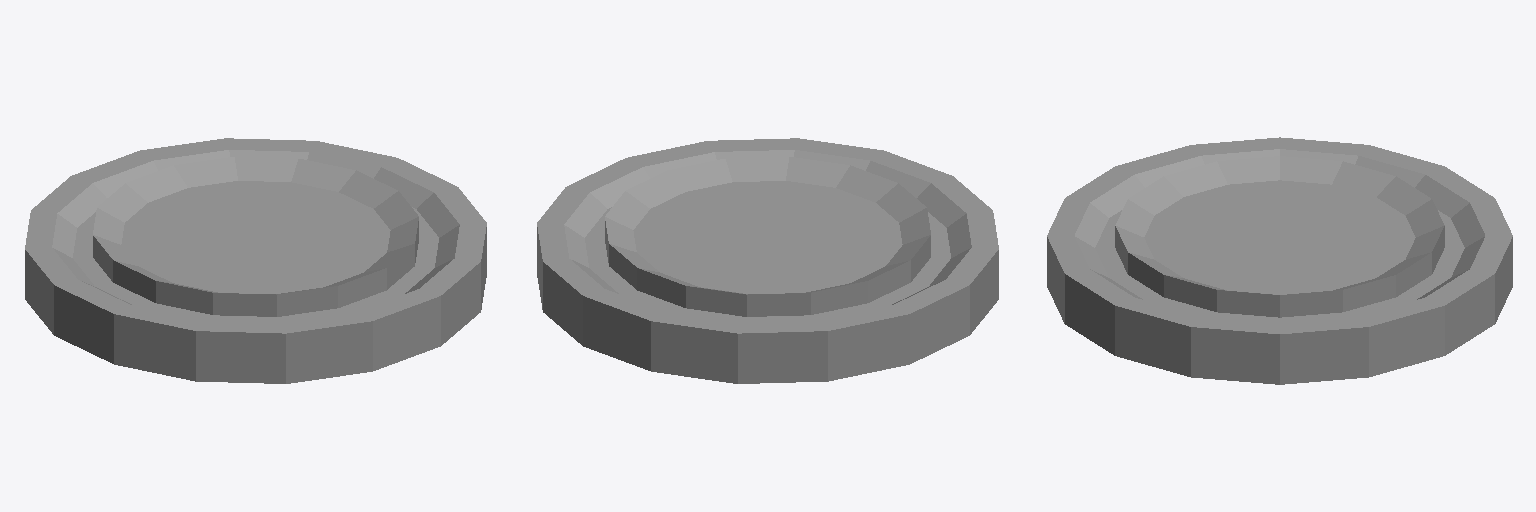
Rendered from Finnish_platform.obj.
3 renders of one model, left to right at view 1: azimuth 30°, elevation 25°; view 2: azimuth 150°, elevation 25°; view 3: azimuth 270°, elevation 25°, orthographic.
Visible parts, largest first — view 1: Cylinder.002; view 2: Cylinder.002; view 3: Cylinder.002.
Boxes of the visible parts, box(x1,y1,x2,y2) form: Cylinder.002: box(25, 138, 486, 383); Cylinder.002: box(537, 138, 998, 383); Cylinder.002: box(1047, 137, 1512, 384).
Size of the model in its own units: 14.86 by 2.14 by 14.86.